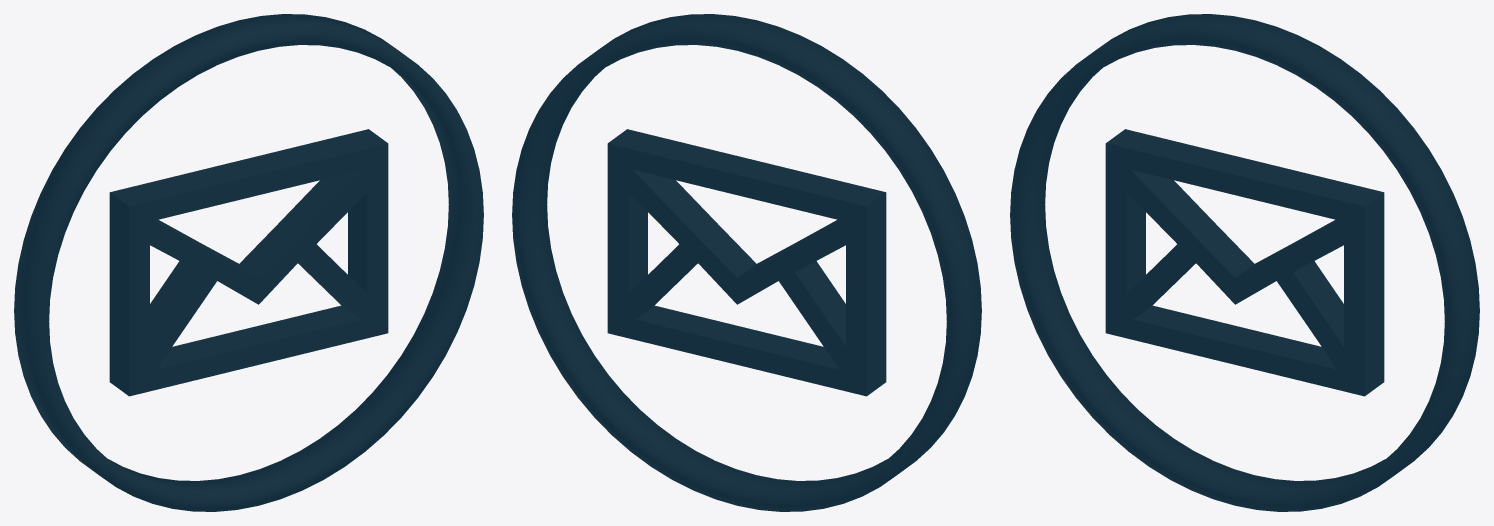
The model's file is message1.gltf.
The picture shows the model from 3 angles, left to right: view 1: azimuth 30°, elevation 25°; view 2: azimuth 150°, elevation 25°; view 3: azimuth 330°, elevation 25°; orthographic projection.
Visible parts, largest first — view 1: Circle, Cirlce letter 1.001; view 2: Circle, Cirlce letter 1.001; view 3: Circle, Cirlce letter 1.001.
Part boxes in pixels (box(x1,y1,x2,y2)): Circle: box(14, 14, 483, 511); Cirlce letter 1.001: box(109, 129, 388, 396); Circle: box(512, 14, 981, 511); Cirlce letter 1.001: box(607, 129, 886, 396); Circle: box(1010, 14, 1479, 511); Cirlce letter 1.001: box(1105, 129, 1384, 396).
Size of the model in its own units: 2 by 2 by 0.15.
